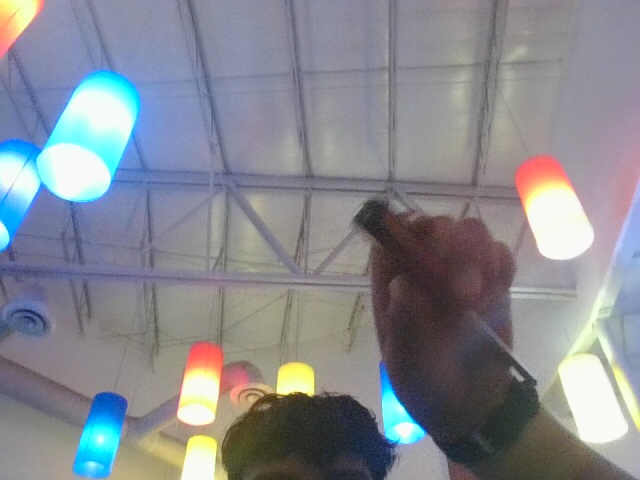destornillador: (343, 194, 542, 394)
